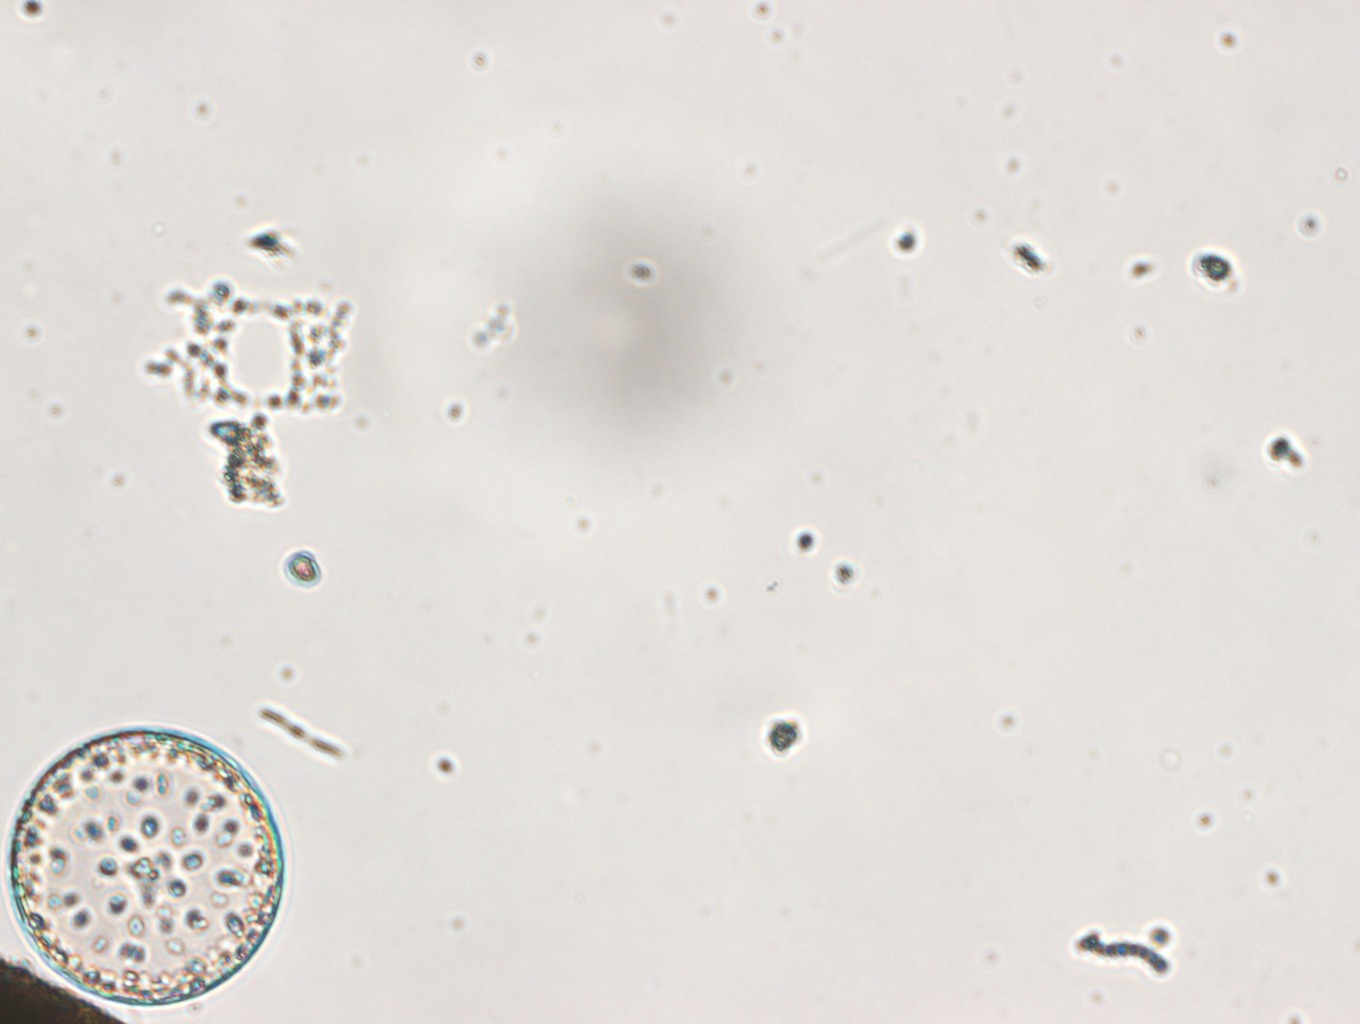coscinodiscus: (8, 723, 285, 1010)
